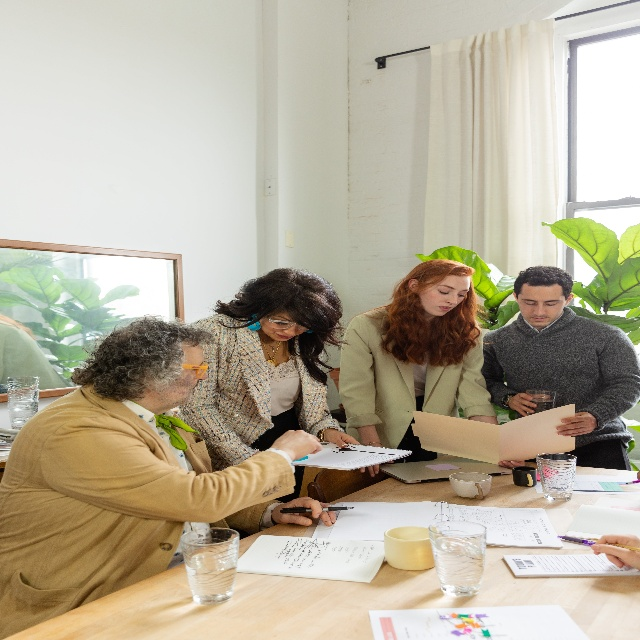Gafas: (266, 314, 310, 334), (171, 359, 208, 378)
Sin_guantes: (272, 494, 336, 528), (590, 532, 640, 572), (270, 428, 323, 462), (360, 440, 394, 477), (557, 411, 598, 437), (324, 426, 361, 449), (508, 391, 537, 417)
